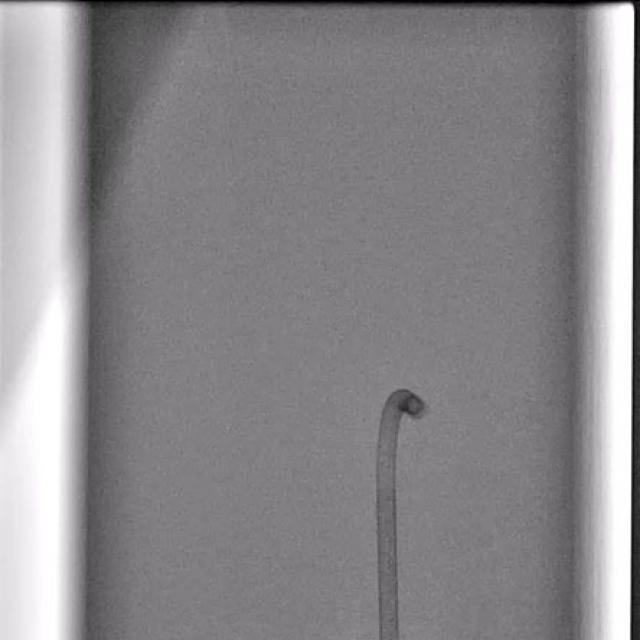bend: (374, 466, 399, 488)
entry: (379, 634, 400, 640)
marker: (402, 394, 423, 416)
tip: (411, 401, 426, 420)
